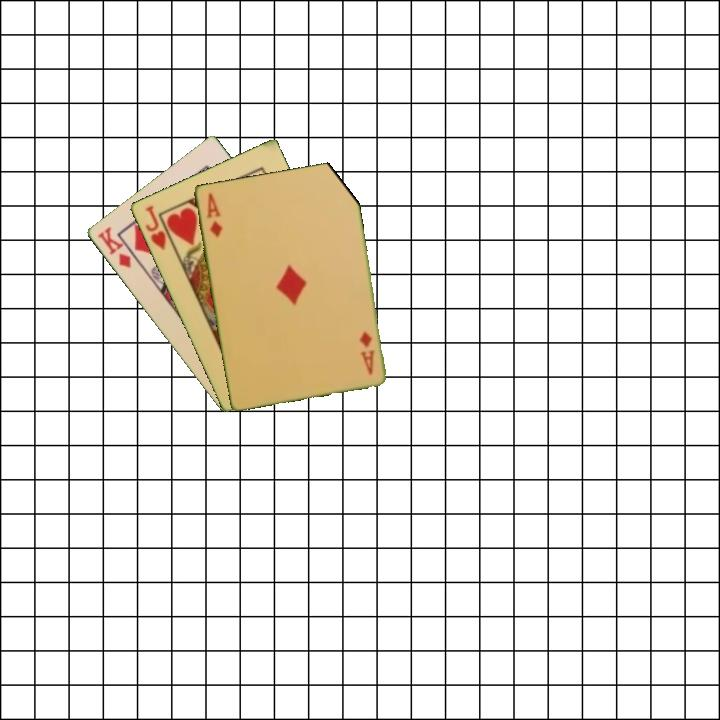Ad: (202, 189, 225, 241), (355, 327, 377, 377)
Jh: (141, 202, 177, 253)
Kd: (94, 223, 134, 271)
